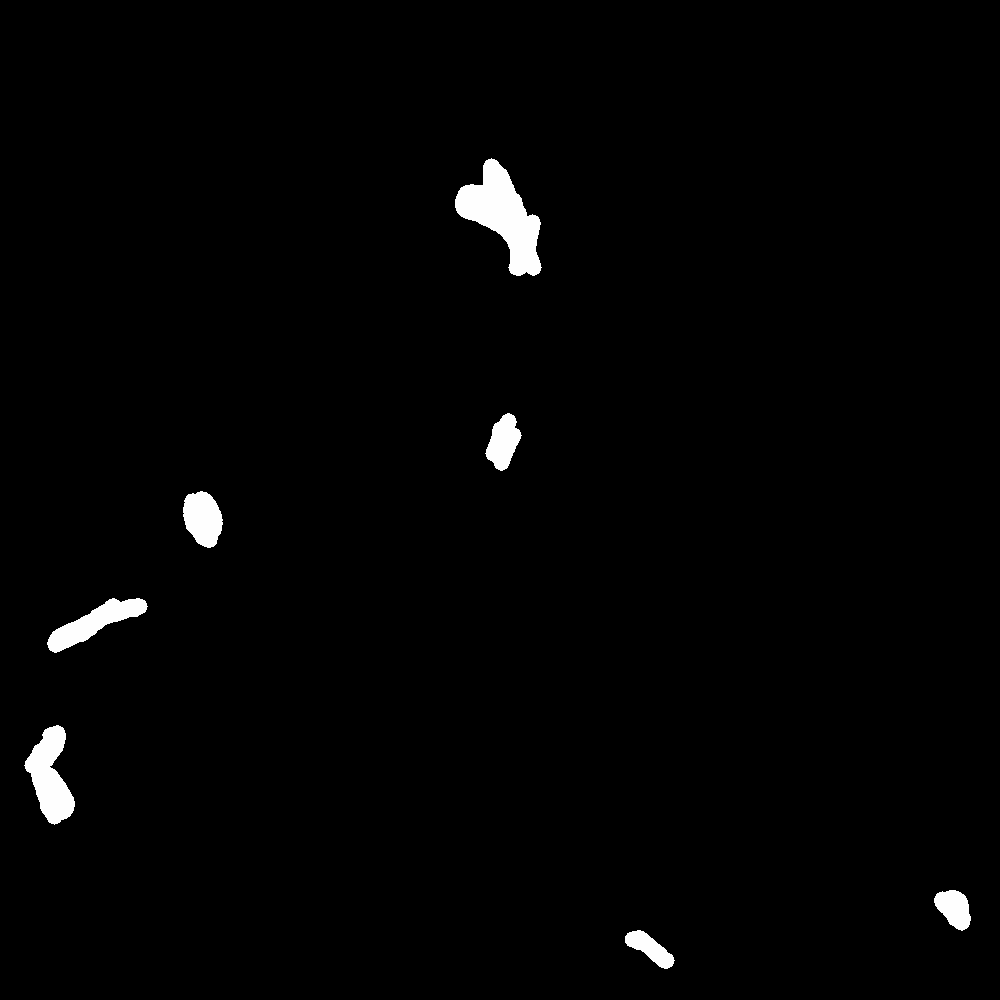illegal: (184, 498, 215, 545)
